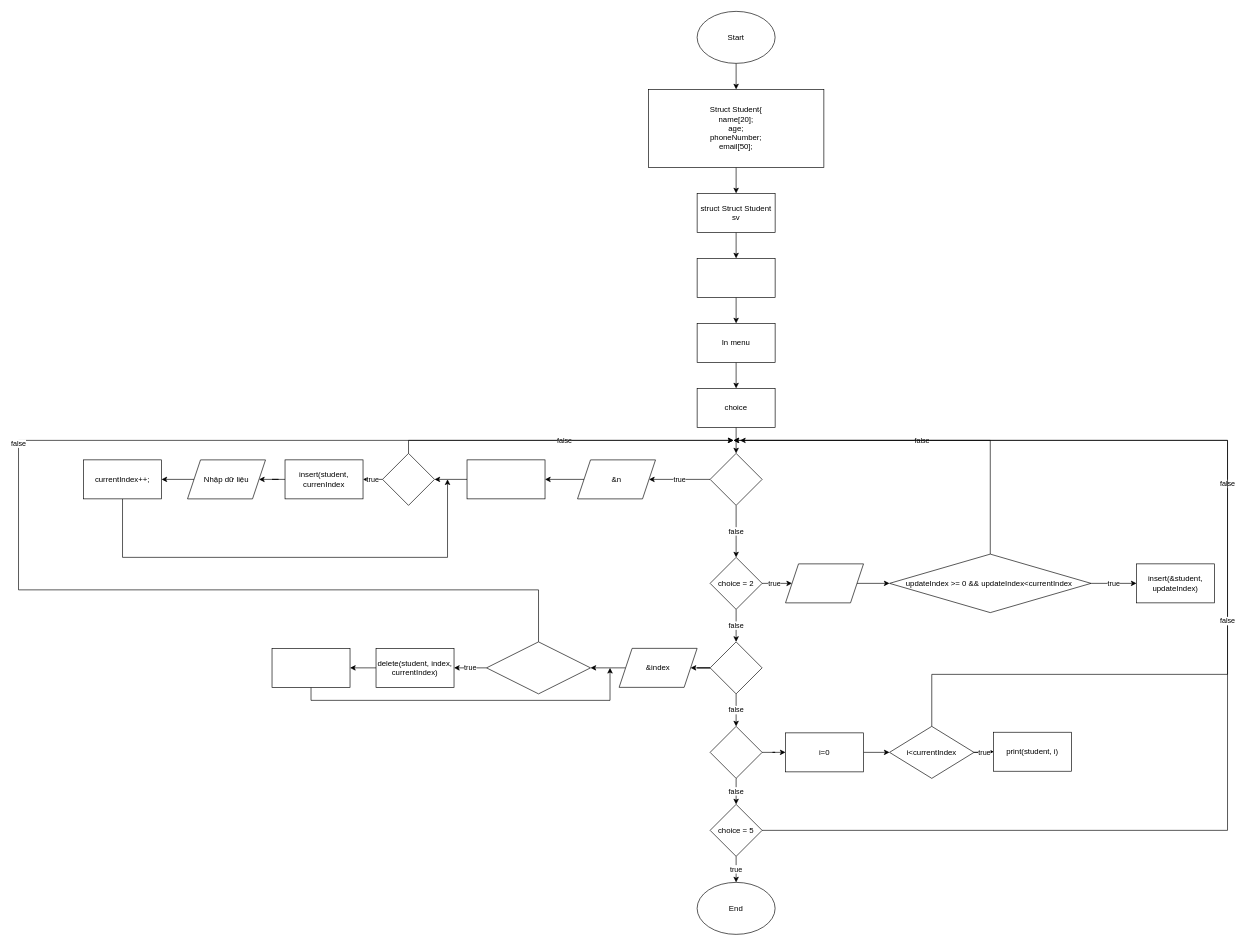
Image size: 1246x946. Some labels were removed from this diagram. Each missing label, with the box of its shape:
&updateIndex: (785, 563, 864, 603)
choice = 1: (709, 453, 762, 505)
choice = 3: (709, 641, 762, 694)
choice = 4: (709, 726, 762, 778)
currentIndex--: (271, 648, 350, 687)
i < n: (382, 453, 435, 505)
i = 0: (466, 459, 545, 499)
index<currentIndex: (486, 641, 591, 694)
n, currentIndex = 0, index = 0, updateIndex = 0: (696, 258, 775, 297)
